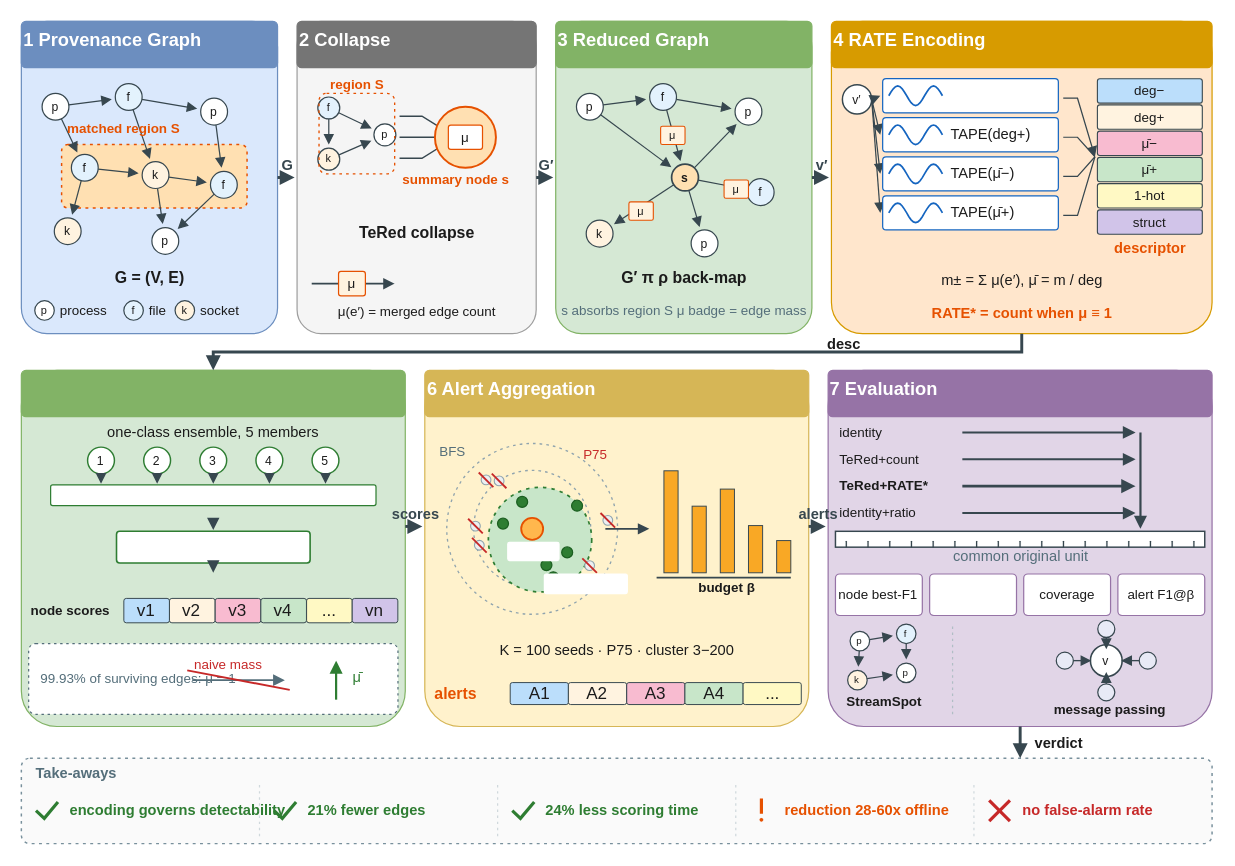
Image size: 1235x866. Some labels were removed from this diagram. Each missing label, with the centre of its shape:
5 Detector: [212,393]
anomaly = 1 − max sim: [212,546]
cluster: [585,583]
cosine similarity to benign radius (P5): [212,495]
node ROC-AUC: [972,594]
seed: [533,551]
TAPE(deg−): [969,95]
